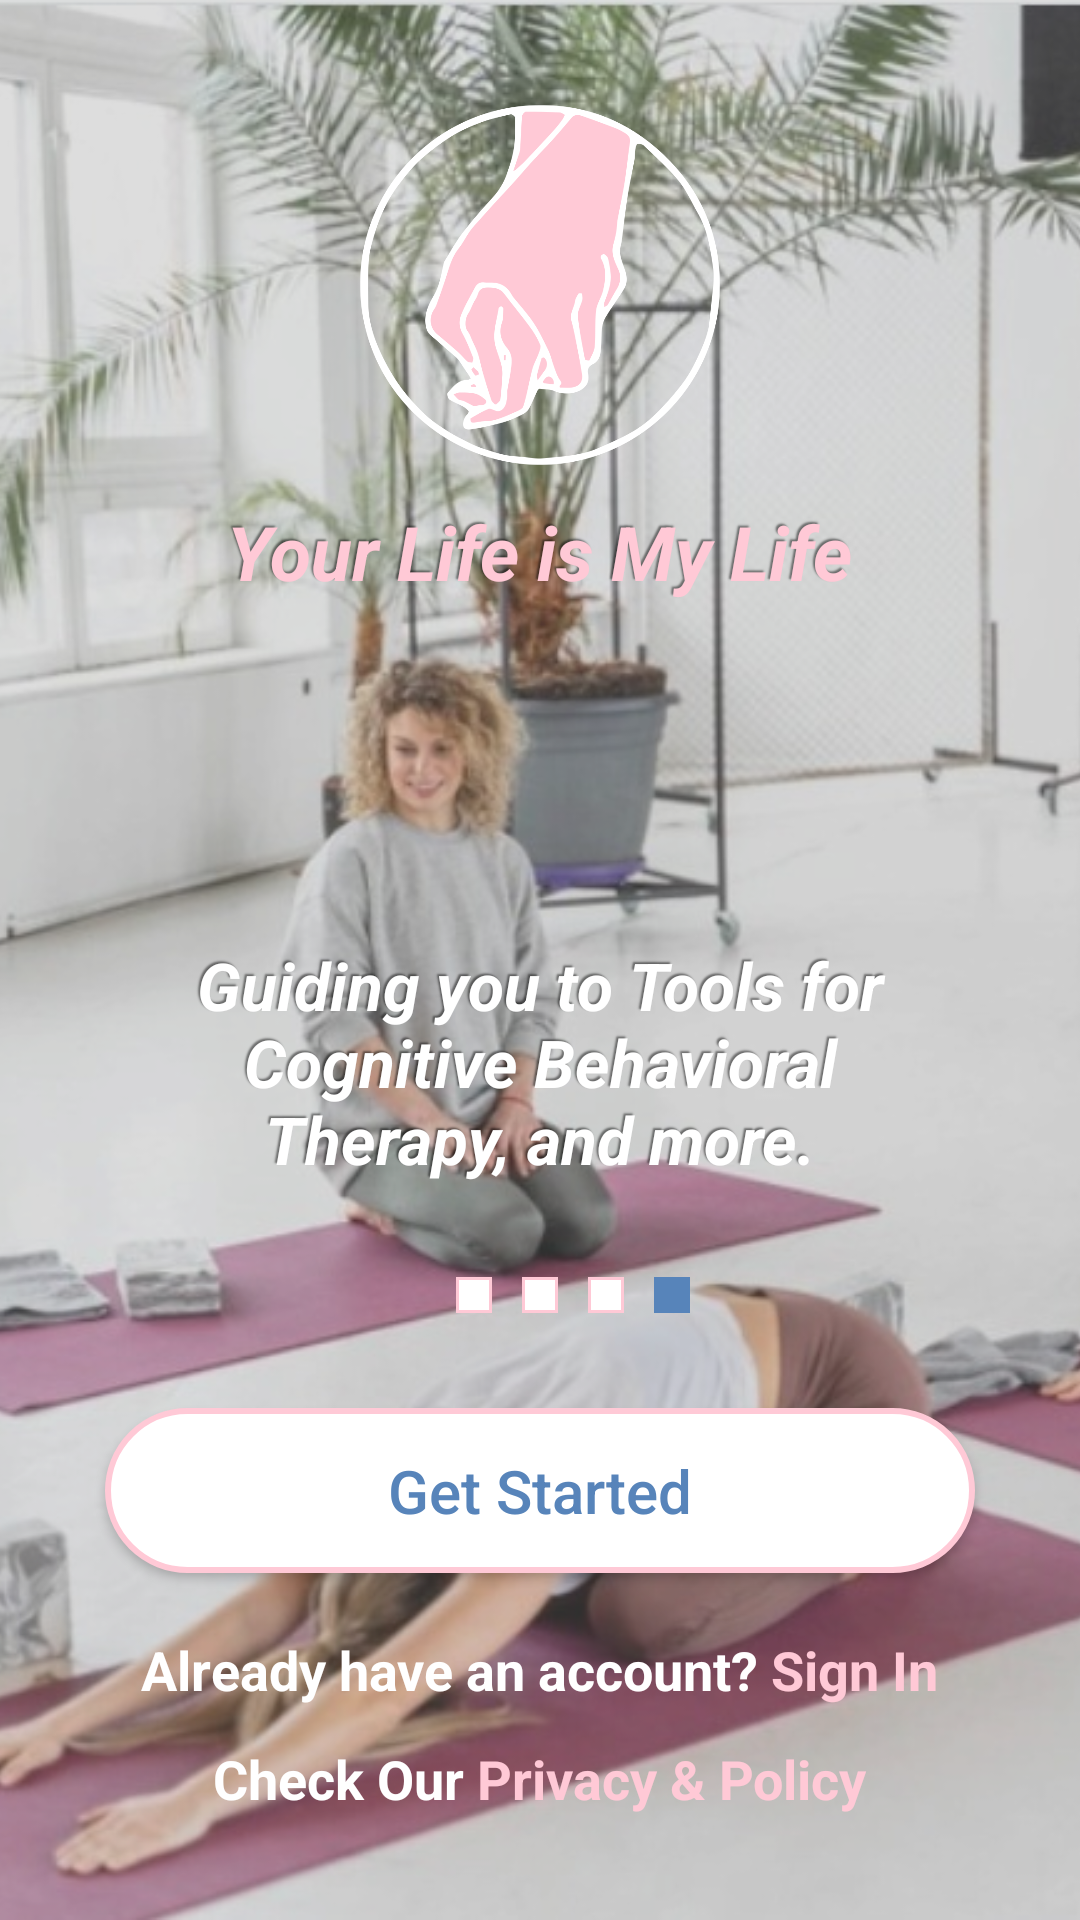

Icons on this 1080px×1920px Android screen, each with the point to tap as [x,y]:
hands tran: [540,285]
